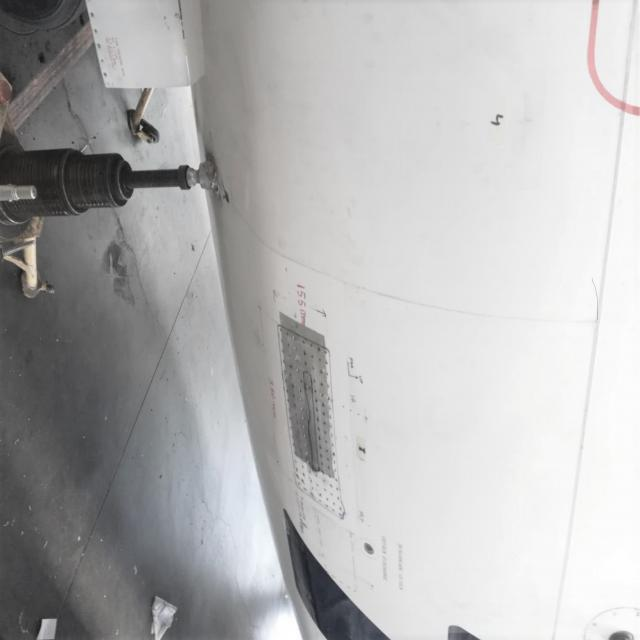crack: (589, 264, 603, 330)
